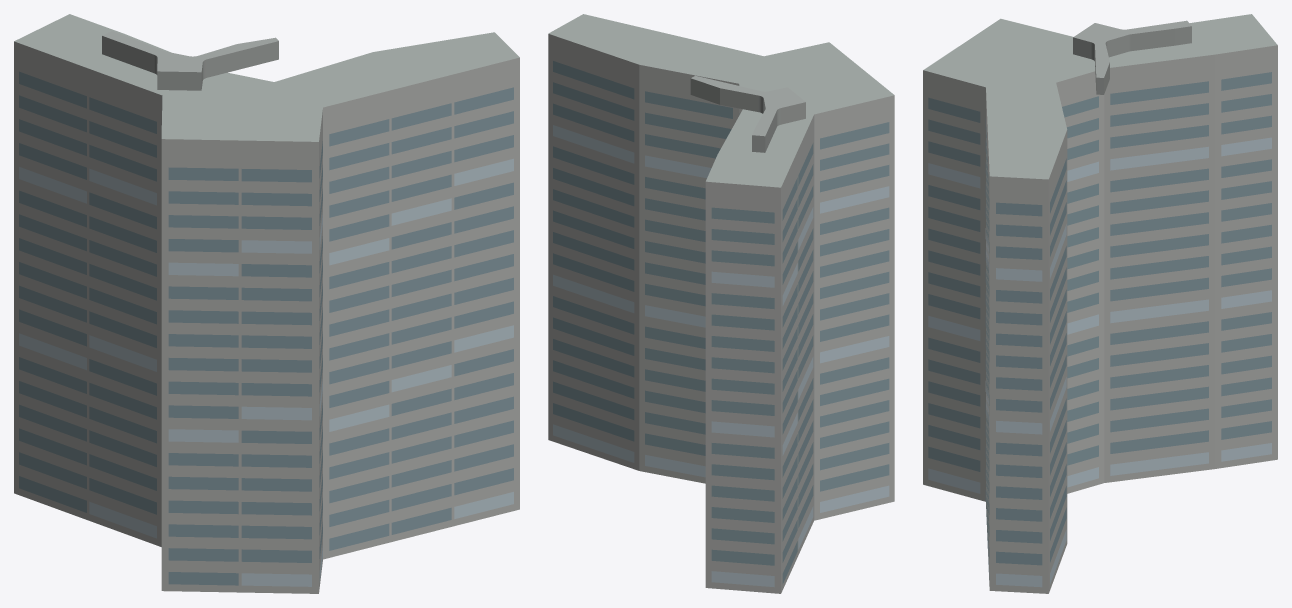
The model's file is fallback-godeok-gracium-153.glb.
3 views of the same model, side by side, from view 1: azimuth 30°, elevation 25°; view 2: azimuth 150°, elevation 25°; view 3: azimuth 270°, elevation 25° (orthographic). The views are drawn at different scales.
Parts seen in each view (by area): view 1: fallback-godeok-gracium-153; view 2: fallback-godeok-gracium-153; view 3: fallback-godeok-gracium-153.
Boxes of the visible parts, bbox=[...] form: fallback-godeok-gracium-153: bbox=[14, 14, 519, 593]; fallback-godeok-gracium-153: bbox=[548, 14, 894, 593]; fallback-godeok-gracium-153: bbox=[923, 14, 1277, 593].
Bounding box in the file's own units: 50.18 × 61 × 45.45.
